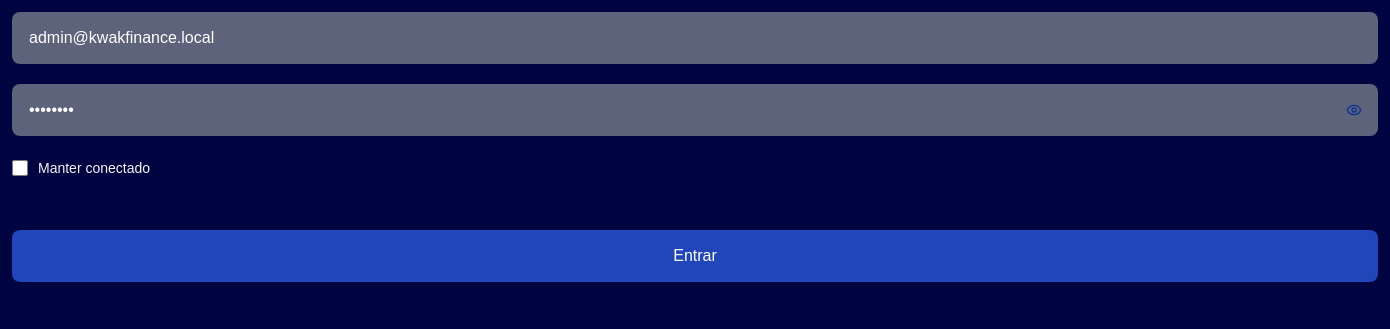
LoginForm › mostra erro de validacao para senha curta
Step 1. Type "123" into the password field named "Senha" → [695, 110], box x1=12 y1=84 x2=1378 y2=136
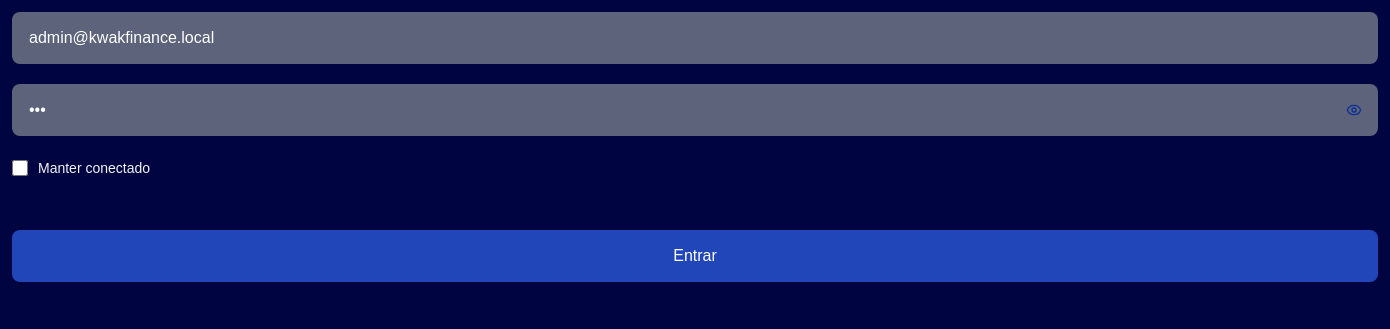
Step 2. Click the button "Entrar" → [695, 256], box x1=12 y1=230 x2=1378 y2=282
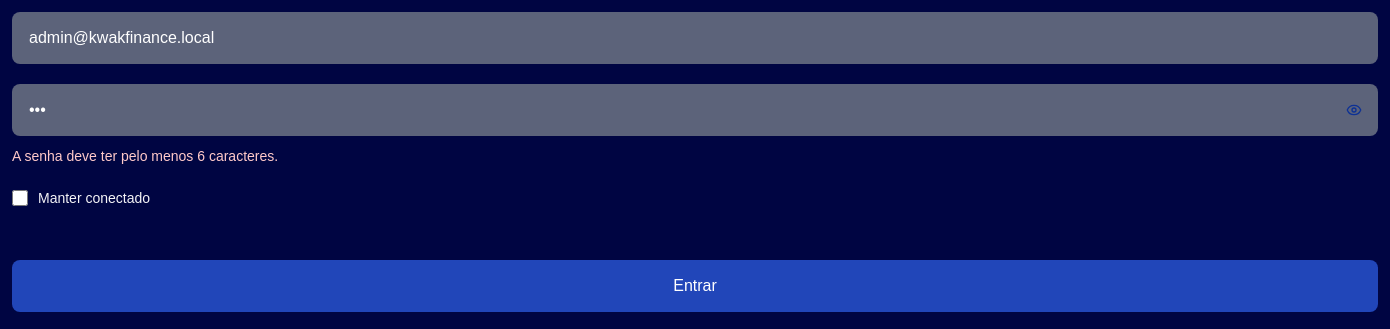
Check: the text "A senha deve ter pelo menos 6 caracteres." is shown, box x1=12 y1=148 x2=278 y2=164
